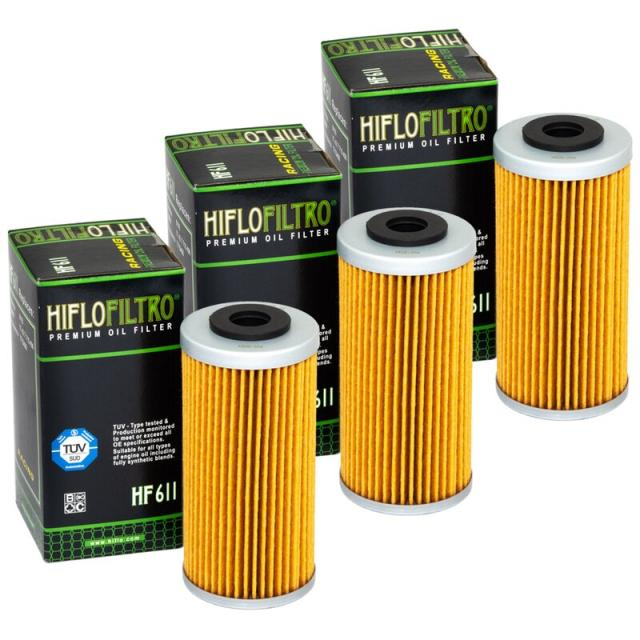oil_filter: (177, 300, 327, 614), (494, 108, 636, 424), (333, 207, 478, 516)
